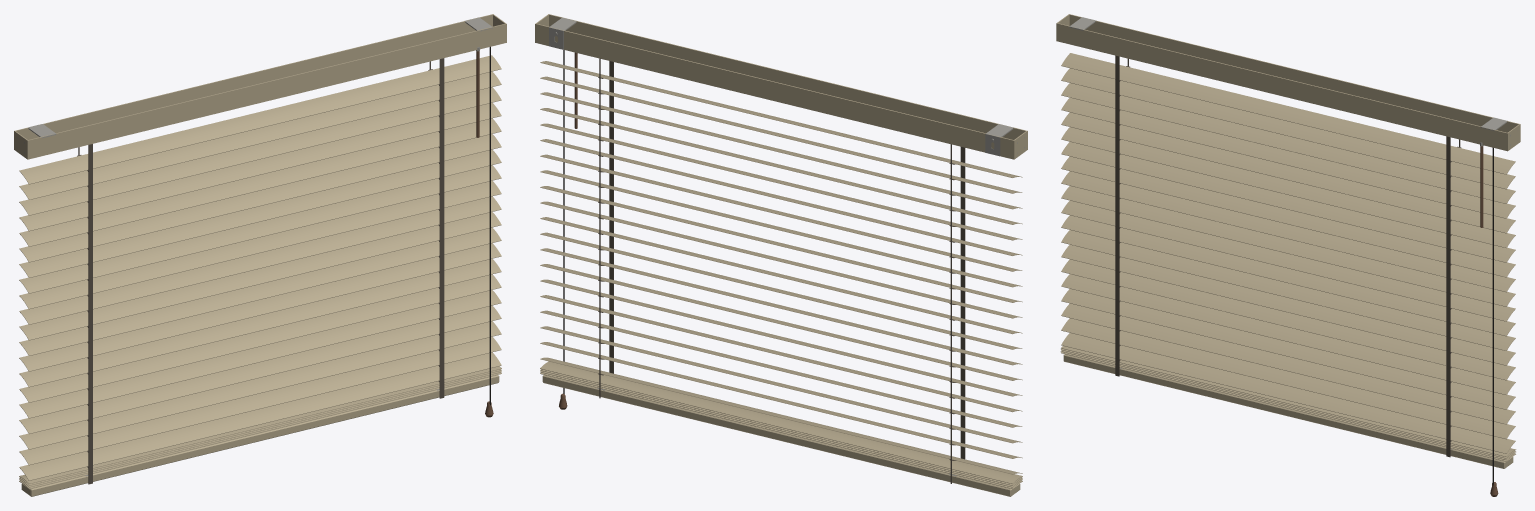
File: kitchen-horizontal-blinds-af9a2f535d17.glb
3 renders of one model, left to right at view 1: azimuth 30°, elevation 25°; view 2: azimuth 150°, elevation 25°; view 3: azimuth 330°, elevation 25°, orthographic. The views are drawn at different scales.
Parts seen in each view (by area): view 1: enamel-beige, fabric, rubber; view 2: enamel-beige, fabric, brushed; view 3: enamel-beige, fabric, rubber.
Boxes of the visible parts, x1,y1,x2,y2 form: enamel-beige: [14, 14, 506, 496]; fabric: [77, 58, 444, 484]; rubber: [489, 46, 490, 405]; enamel-beige: [535, 14, 1027, 496]; fabric: [598, 58, 965, 483]; brushed: [549, 17, 1025, 476]; enamel-beige: [1056, 14, 1520, 468]; fabric: [1115, 55, 1461, 457]; rubber: [1492, 148, 1493, 485].
Bounding box in the file's own units: 0.9 × 0.7 × 0.048.
